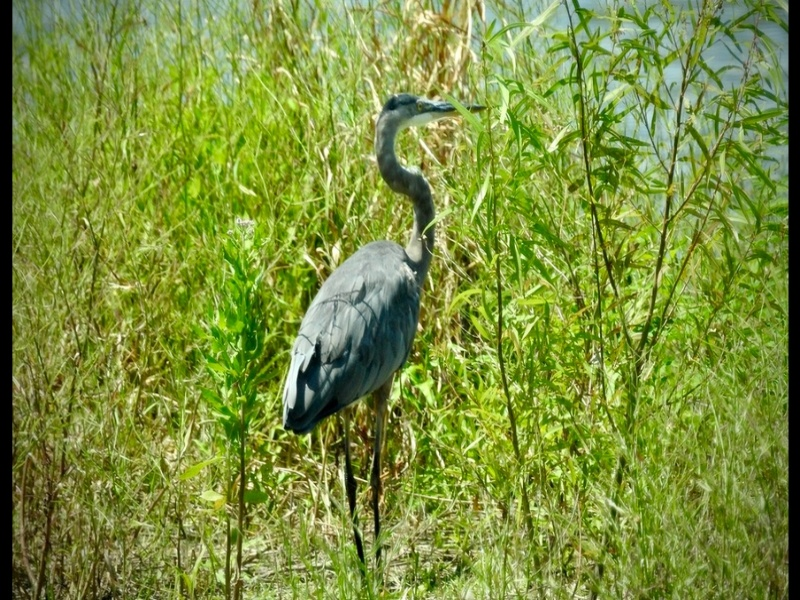heron: (281, 91, 491, 572)
